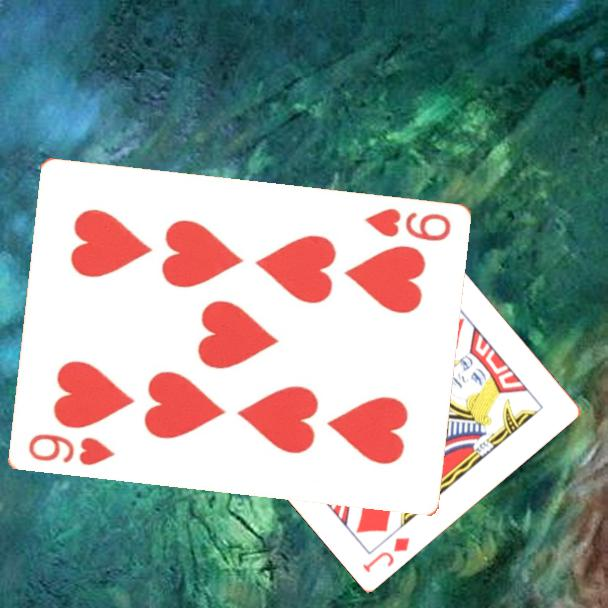d11: (359, 533, 413, 575)
h09: (361, 205, 454, 245), (24, 430, 117, 469)
